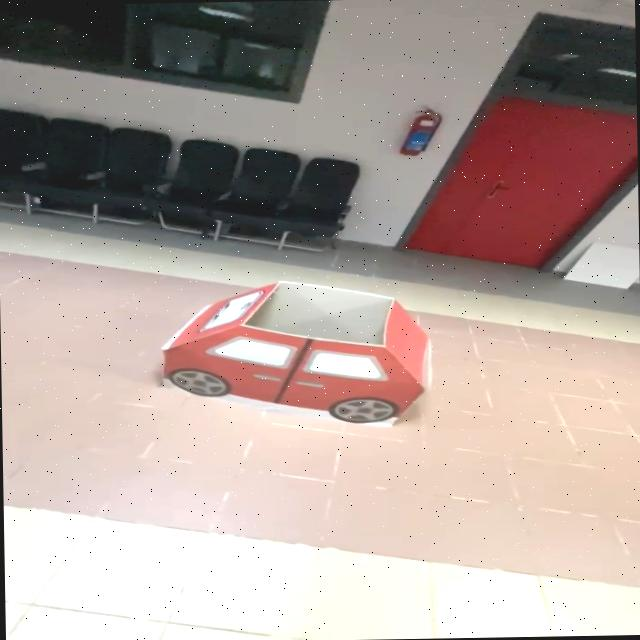red_car: (112, 267, 480, 446)
